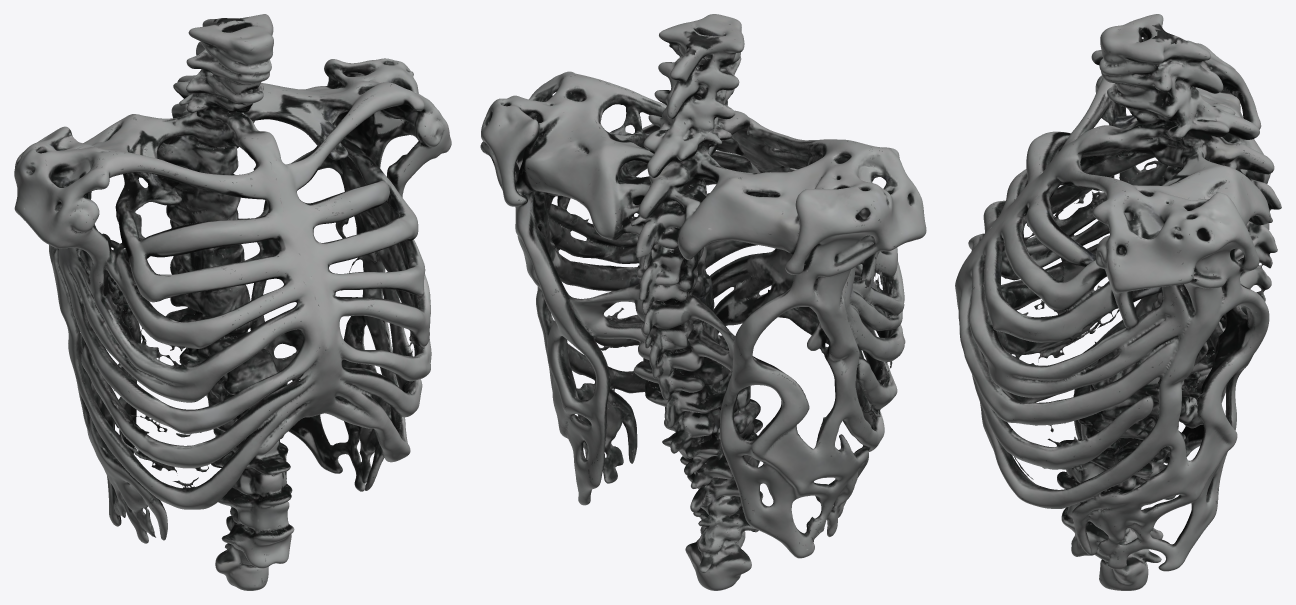
Rendered from Meshy_AI_Chrome_Ribcage_0603162821_texture.glb.
3 views of the same model, side by side, from view 1: azimuth 30°, elevation 25°; view 2: azimuth 150°, elevation 25°; view 3: azimuth 270°, elevation 25° (orthographic).
Size of the model in its own units: 1.56 by 2 by 1.07.
1 material, 1 textured.
